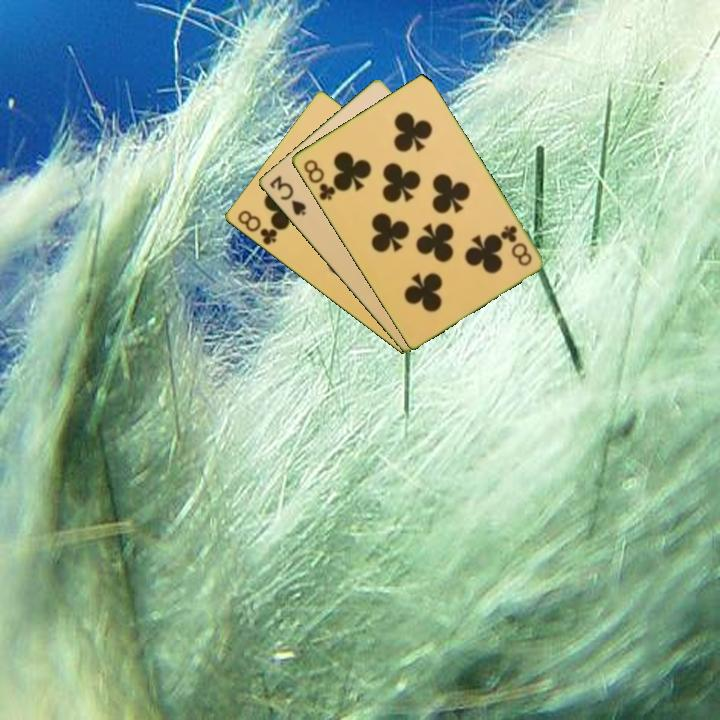3s: (266, 172, 309, 219)
8c: (233, 206, 280, 248), (299, 156, 338, 203), (497, 221, 535, 269)
